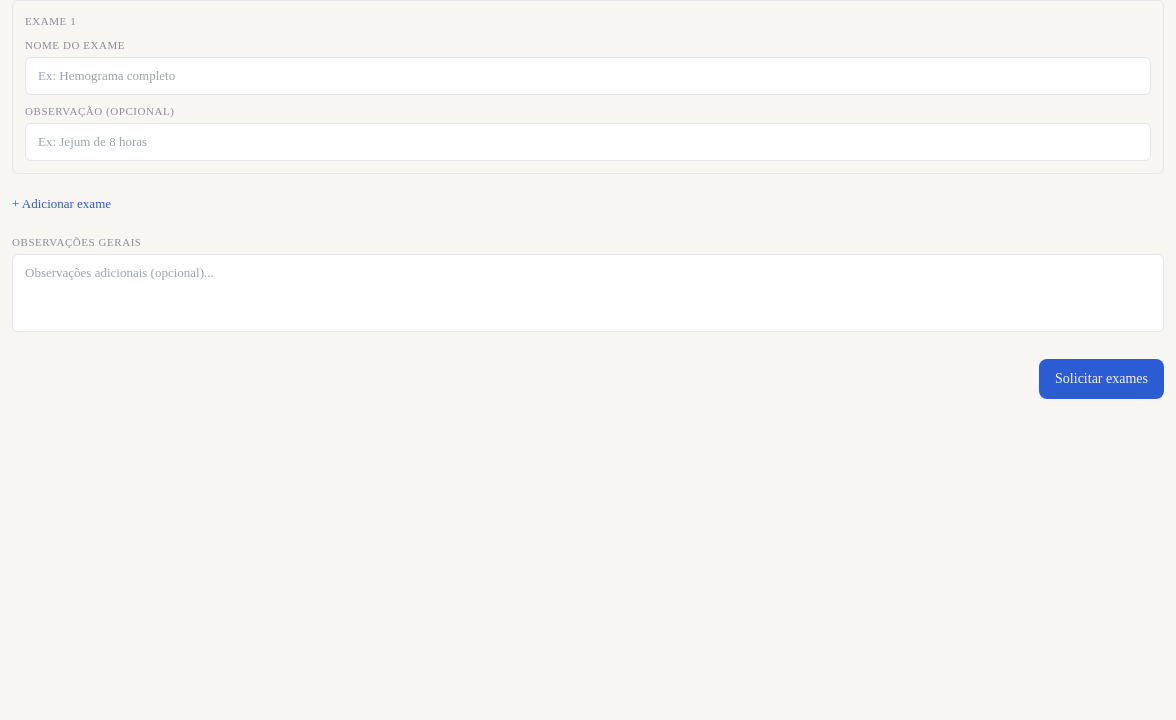
ExameForm (integration) › removes an item when clicking Remover (only when more than one item)
Click the button with test id "exame-form-add-item".
click(62, 204)  # box [12,194,111,214]
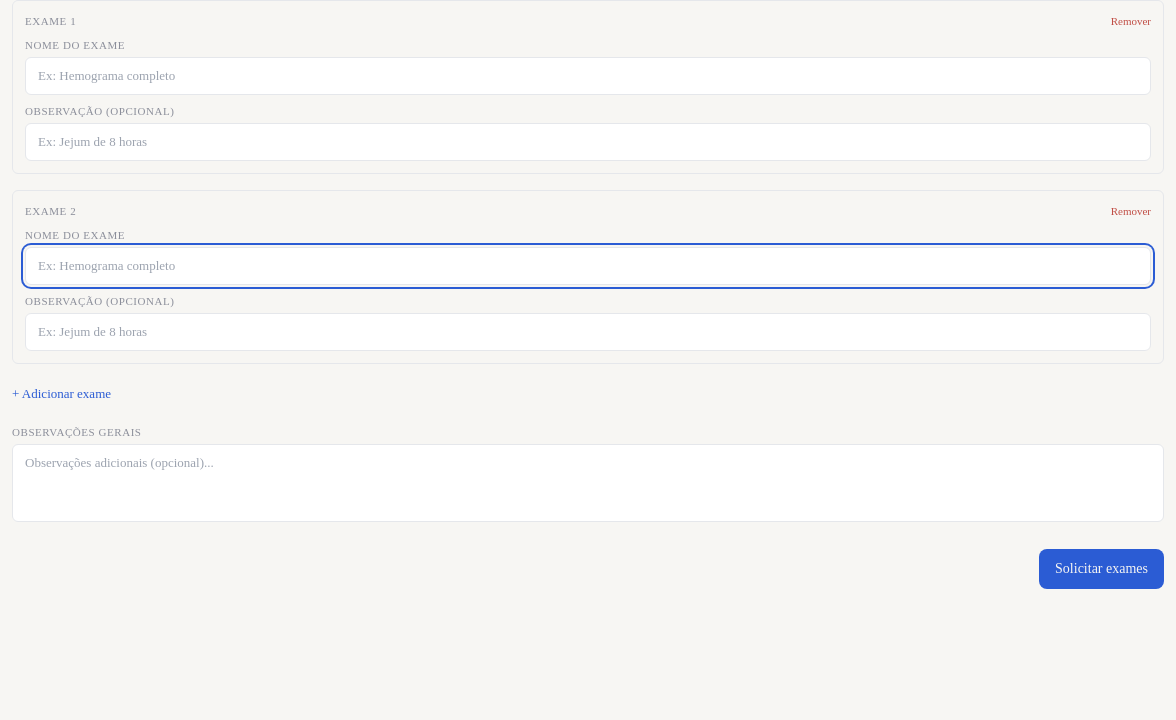
Check: the list item with test id "exame-form-item-1" is shown, box [12,190,1164,364]
Click the button with test id "exame-form-item-remove-1".
click(1131, 211)  # box [1111,203,1151,219]
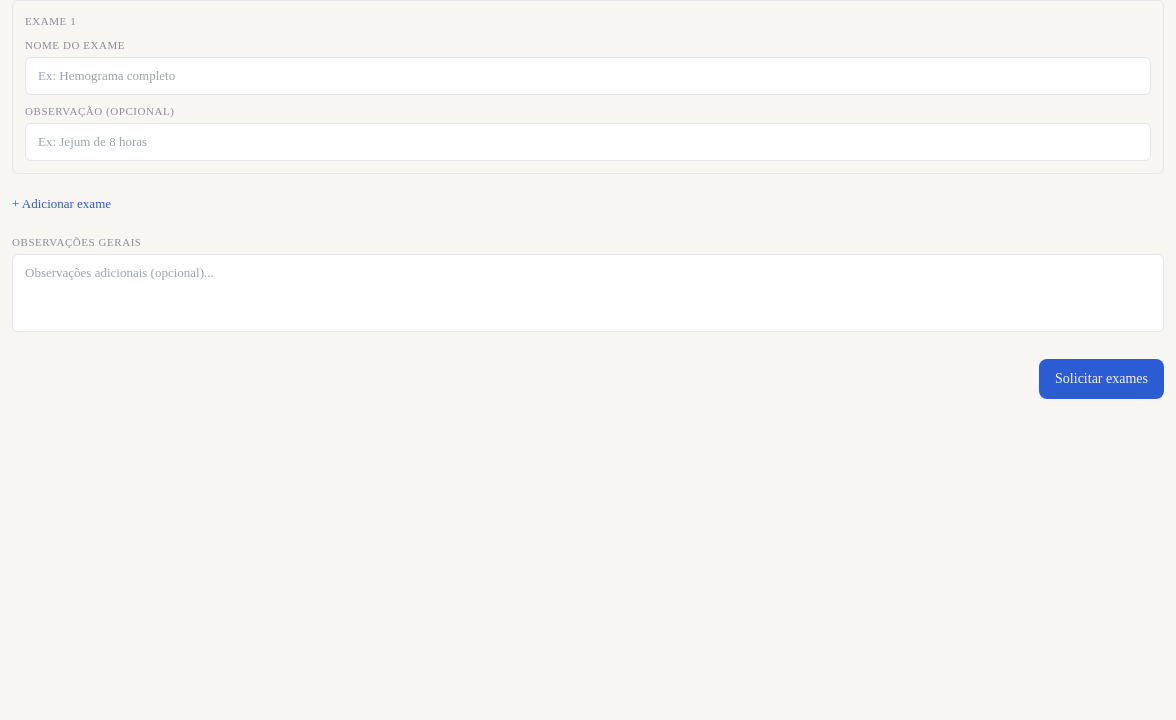
Check: the list item with test id "exame-form-item-1" is gone
